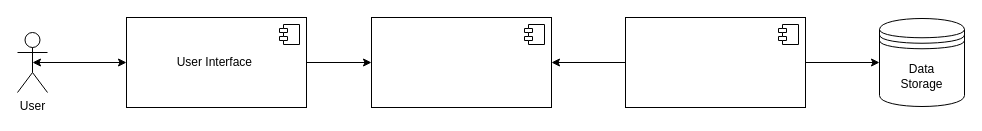
Some shapes in this 982 by 131 pixel diagram are drawn without their labels. Each missing label, with the box of its shape:
Business Logic: (370, 16, 552, 108)
Data Access: (624, 16, 806, 108)
